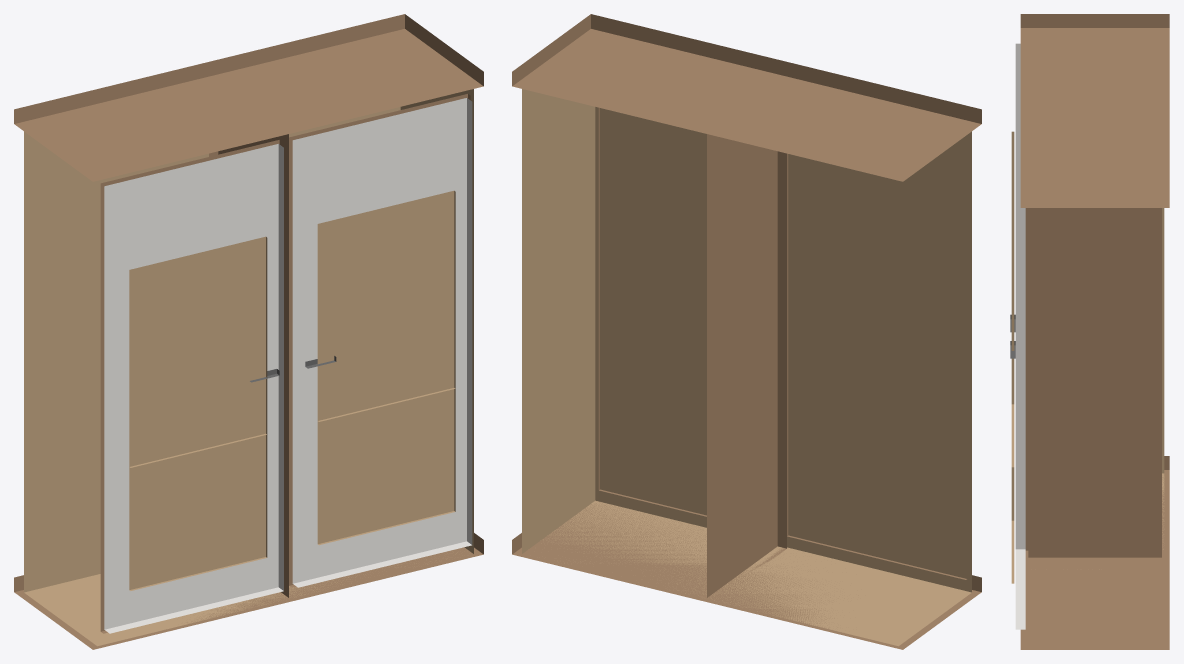
Rendered from gardrop.glb.
3 views of the same model, side by side, from view 1: azimuth 30°, elevation 25°; view 2: azimuth 150°, elevation 25°; view 3: azimuth 270°, elevation 25° (orthographic). The views are drawn at different scales.
Size of the model in its own units: 1.66 by 1.96 by 0.62.
